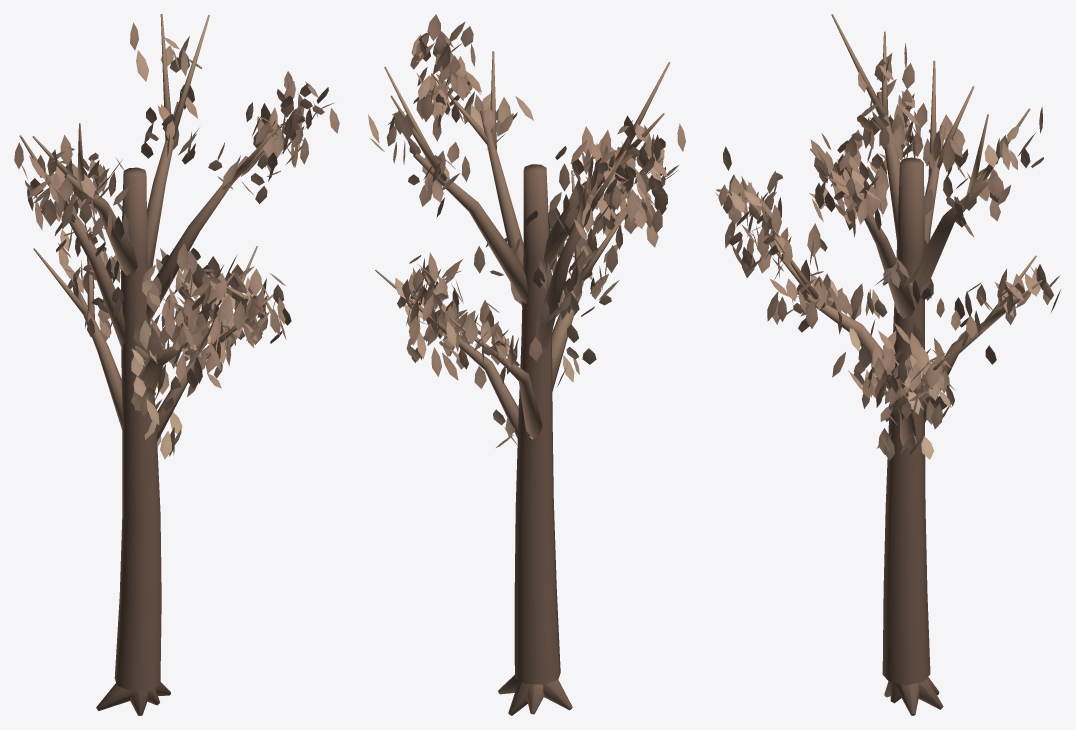
Rendered from tree_3d_02_copper.glb.
3 views of the same model, side by side, from view 1: azimuth 30°, elevation 25°; view 2: azimuth 150°, elevation 25°; view 3: azimuth 270°, elevation 25° (orthographic).
Parts seen in each view (by area): view 1: tree_3d_02_copper_wood, tree_3d_02_copper_foliage; view 2: tree_3d_02_copper_wood, tree_3d_02_copper_foliage; view 3: tree_3d_02_copper_foliage, tree_3d_02_copper_wood.
Boxes of the visible parts, bbox=[...] form: tree_3d_02_copper_wood: bbox=[19, 14, 285, 715]; tree_3d_02_copper_foliage: bbox=[14, 22, 339, 459]; tree_3d_02_copper_wood: bbox=[375, 51, 670, 715]; tree_3d_02_copper_foliage: bbox=[368, 14, 685, 447]; tree_3d_02_copper_foliage: bbox=[715, 43, 1060, 460]; tree_3d_02_copper_wood: bbox=[769, 14, 1042, 715].
Bounding box in the file's own units: 5.69 × 12.3 × 5.99.
